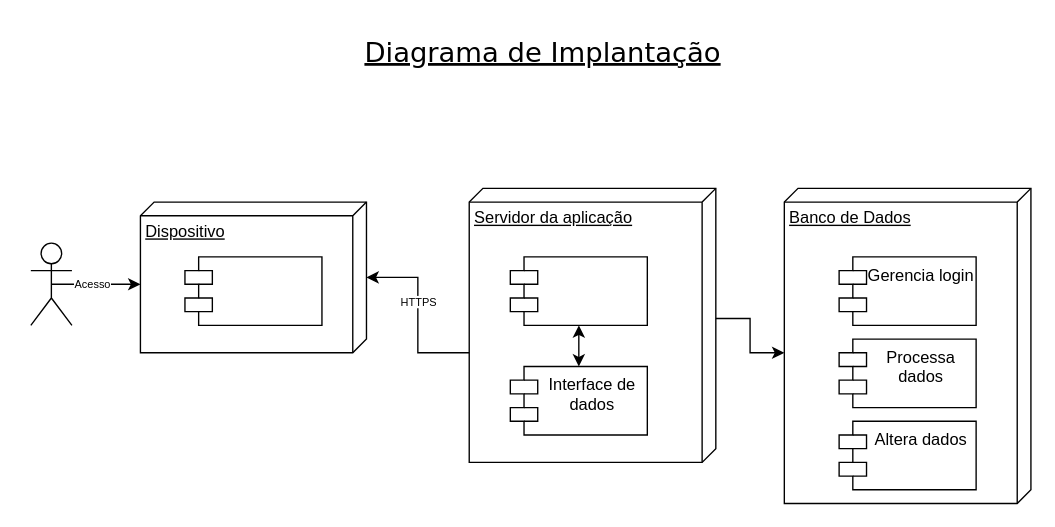
Image size: 1055x527. Some labels were removed from this diagram. The centre of each missing label's shape, as x and y in pixels:
"Interface do sistema" goes at point (578, 290).
"Navegador de internet" goes at point (253, 290).
"Usuário" goes at point (50, 283).
